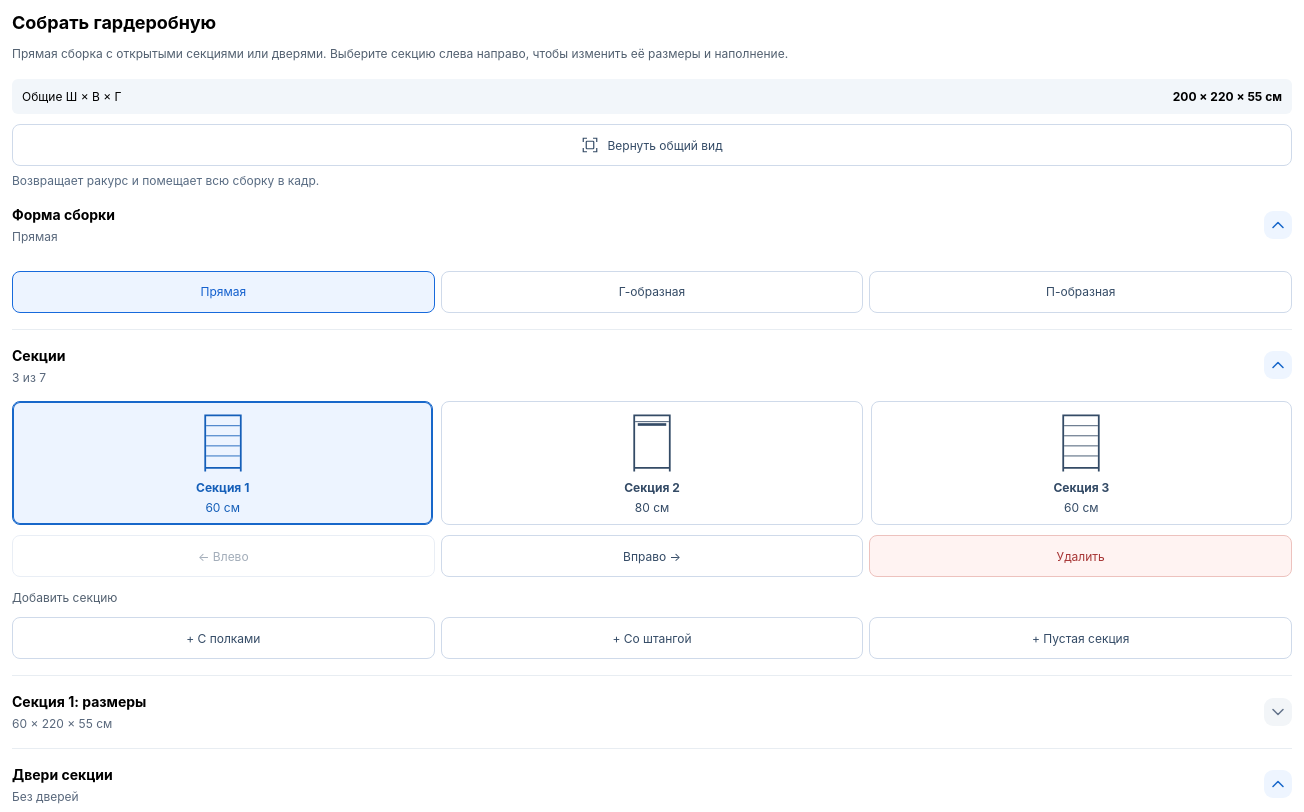
Scenario: wardrobe panel interactions › keeps sections collapsed when selecting a different module
Click the text "Секция 2".
click(652, 488)  # box [624, 480, 680, 495]
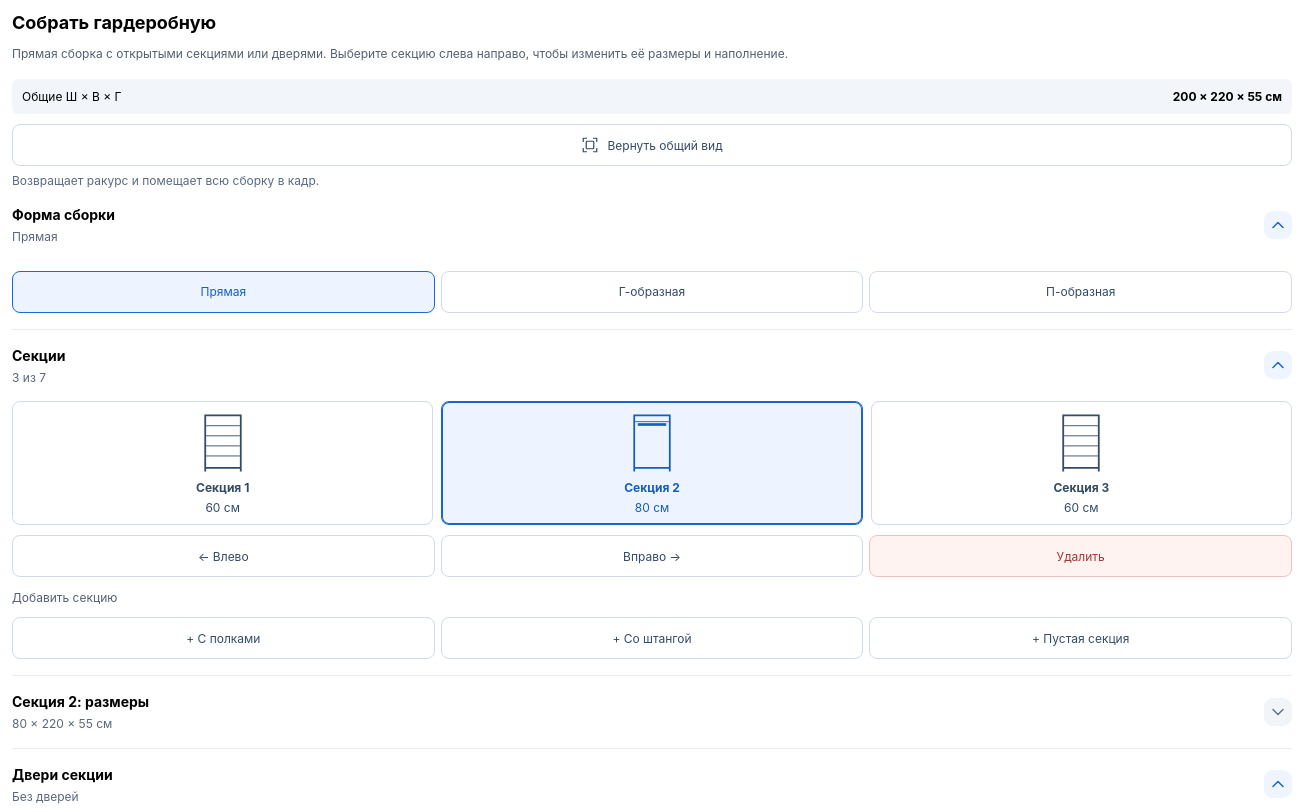
Expected: the text "Секция 1: размеры" shows "Секция 2: размеры", [12, 693, 149, 710]
